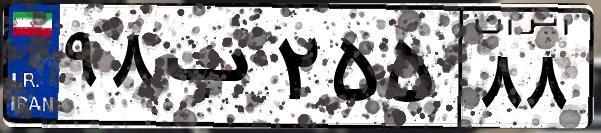2: (270, 28, 330, 110)
5: (385, 28, 445, 110), (330, 28, 385, 110)
8: (475, 38, 525, 113), (525, 38, 570, 115), (110, 28, 158, 98)
9: (57, 26, 110, 100)
ب: (158, 20, 270, 120)
